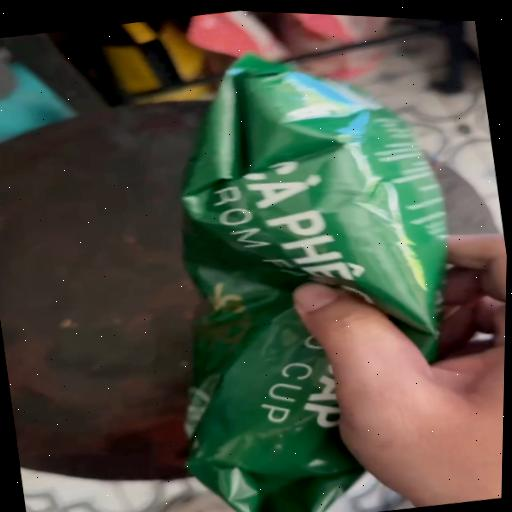cafe_xay: (181, 55, 446, 512)
